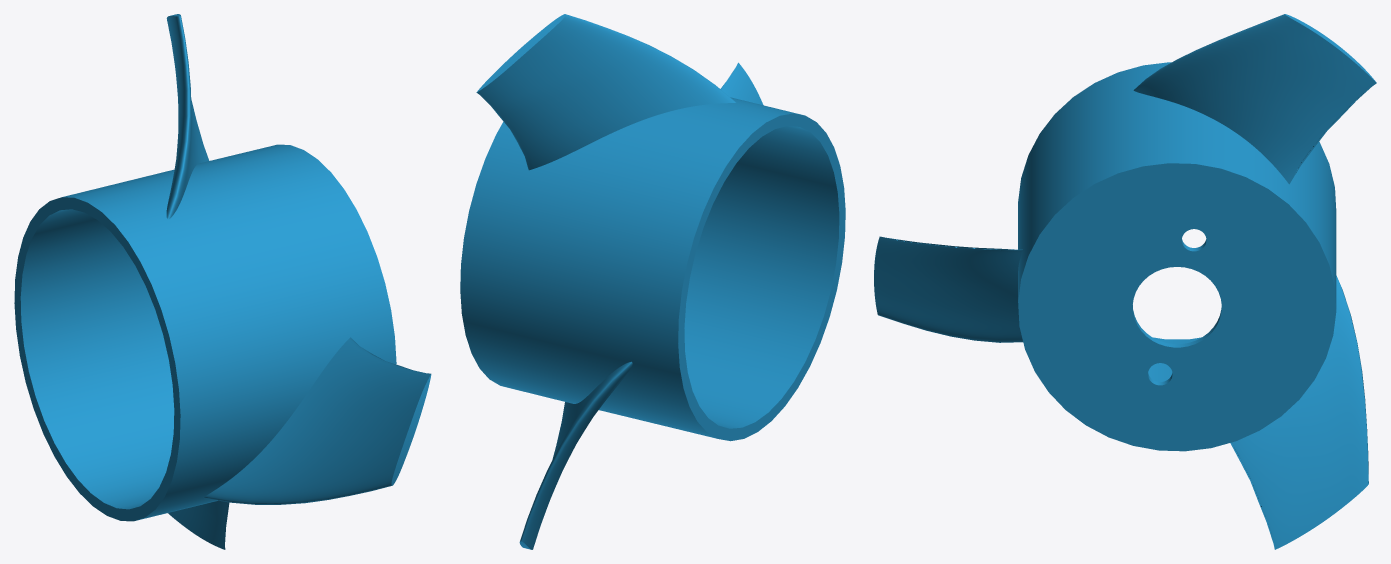
Rendered from Propeller.dae.
The picture shows the model from 3 angles, left to right: view 1: azimuth 30°, elevation 25°; view 2: azimuth 150°, elevation 25°; view 3: azimuth 270°, elevation 25°; orthographic projection. The views are drawn at different scales.
Parts seen in each view (by area): view 1: ID2; view 2: ID2; view 3: ID2.
Boxes of the visible parts, x1,y1,x2,y2 form: ID2: [14, 14, 431, 549]; ID2: [460, 14, 845, 549]; ID2: [874, 14, 1376, 549].
Bounding box in the file's own units: 0.09 × 0.1896 × 0.2151.
